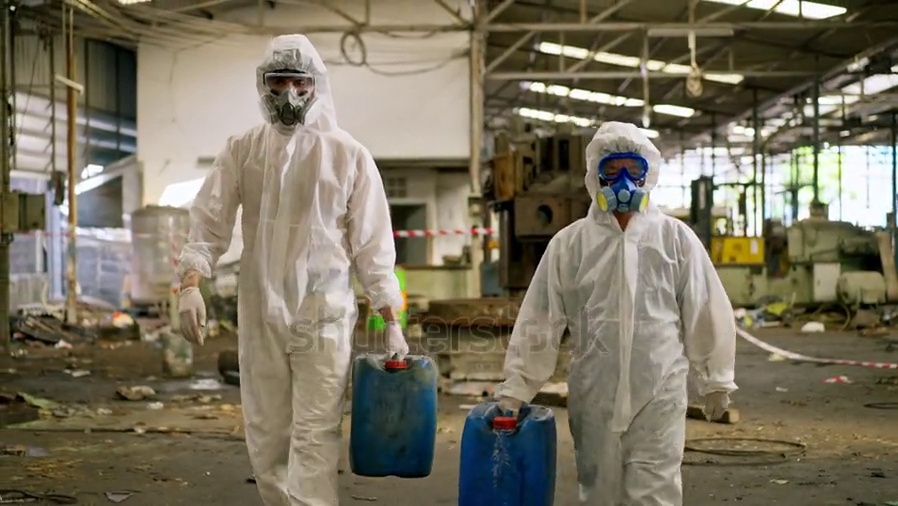mask: (265, 82, 316, 127), (595, 179, 651, 213)
person: (174, 32, 409, 506), (492, 120, 739, 506)
